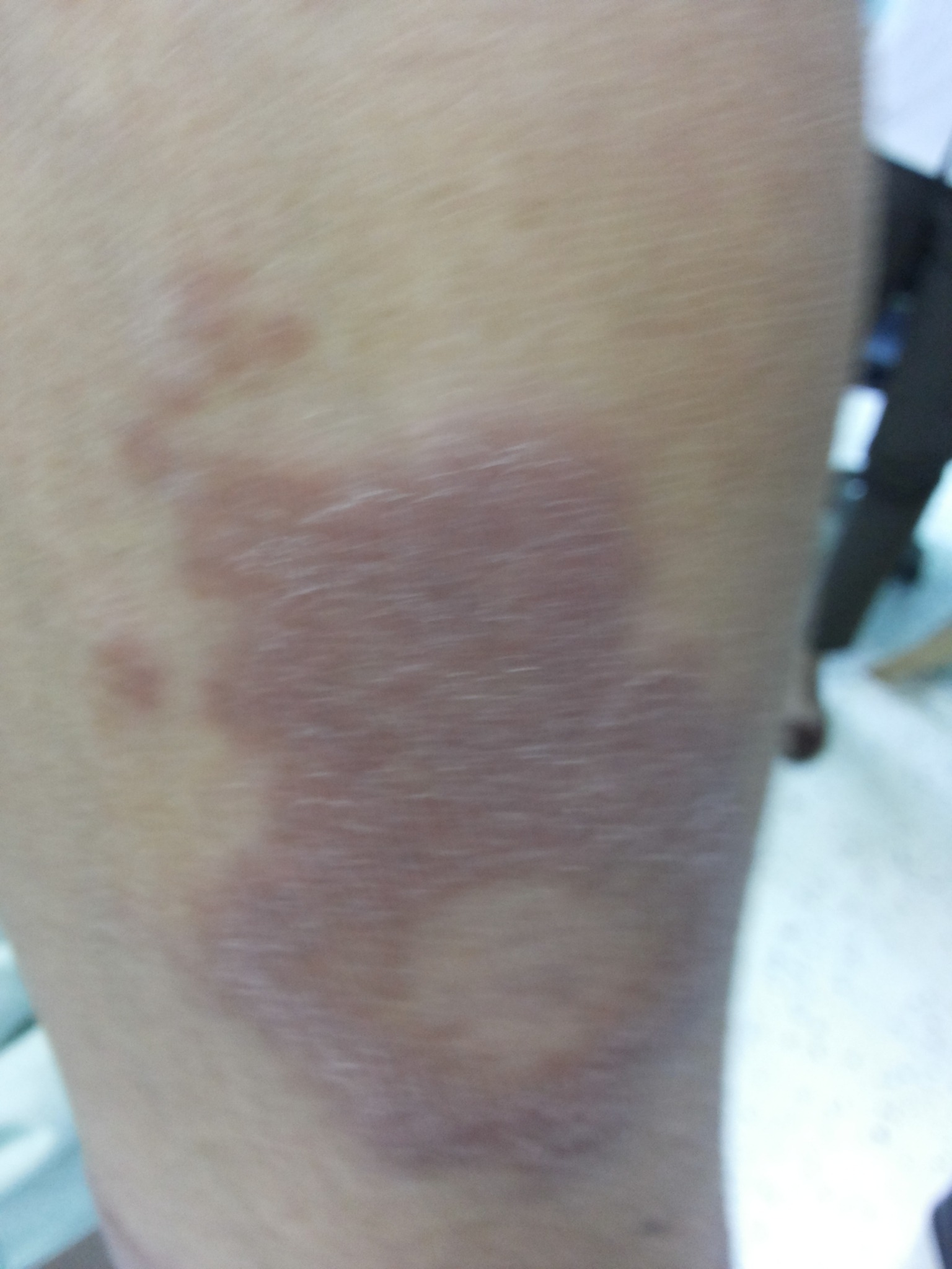Leprosy: (85, 220, 780, 1203)
